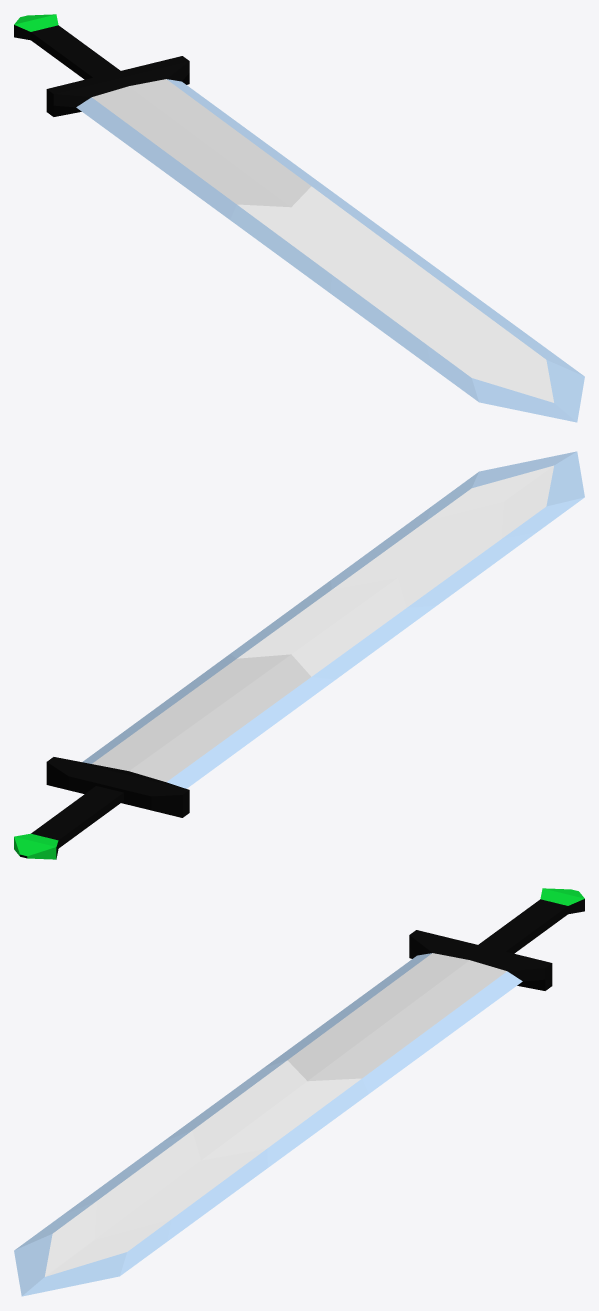
File: Sword.fbx
The picture shows the model from 3 angles, top to bottom: view 1: azimuth 30°, elevation 25°; view 2: azimuth 150°, elevation 25°; view 3: azimuth 330°, elevation 25°; orthographic projection.
Parts seen in each view (by area): view 1: Cube; view 2: Cube; view 3: Cube.
Boxes of the visible parts, x1,y1,x2,y2 form: Cube: (14,14,584,422); Cube: (14,451,584,859); Cube: (14,888,584,1296).
Size of the model in its own units: 196 by 31.75 by 1382.
